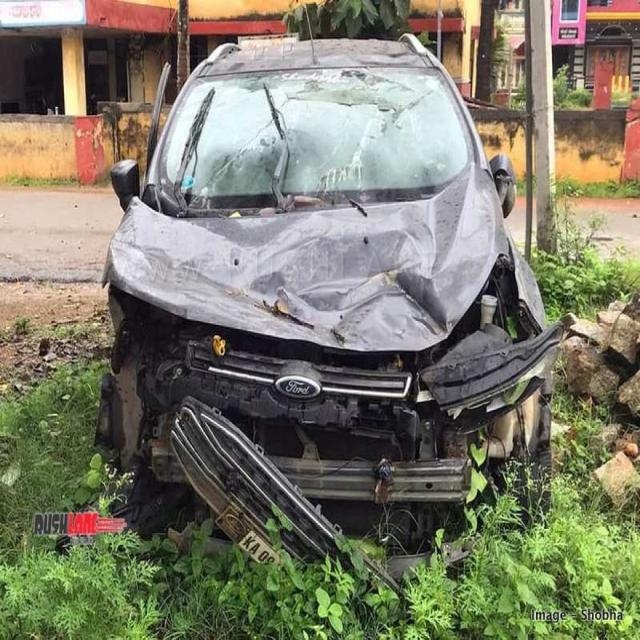accident: (95, 34, 571, 567)
